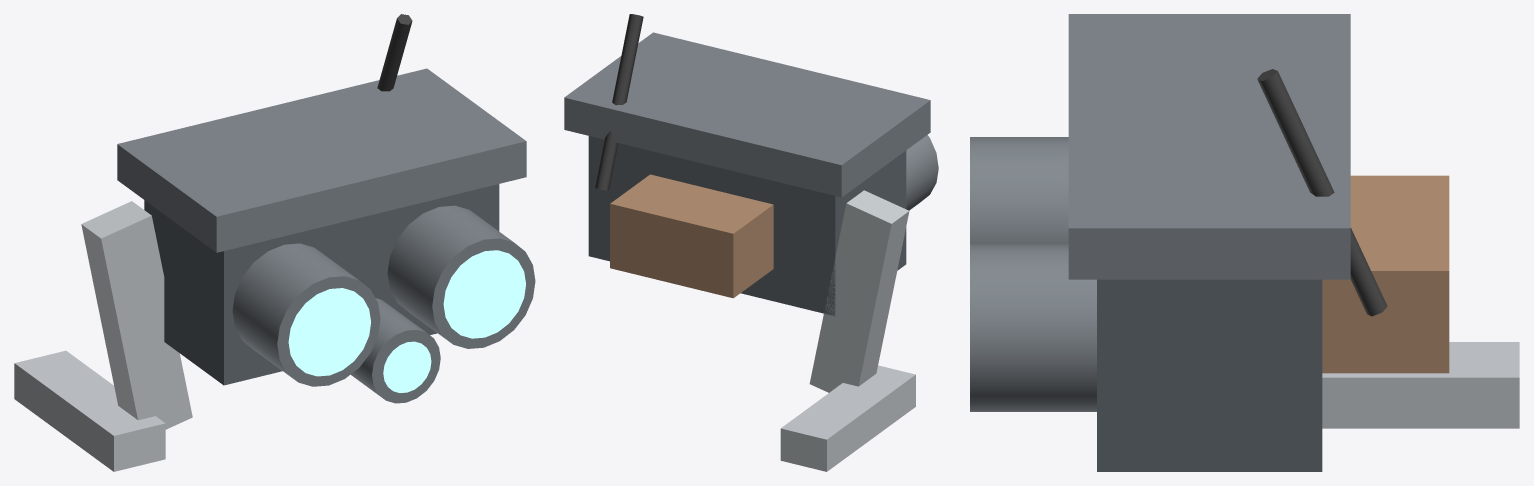
The model's file is nightvision_scan_module.glb.
3 views of the same model, side by side, from view 1: azimuth 30°, elevation 25°; view 2: azimuth 150°, elevation 25°; view 3: azimuth 270°, elevation 25° (orthographic). The views are drawn at different scales.
Parts seen in each view (by area): view 1: nightvision_scan_module; view 2: nightvision_scan_module; view 3: nightvision_scan_module.
Part boxes in pixels (left/top/right/bottom): nightvision_scan_module: left=14, top=14, right=535, bottom=471; nightvision_scan_module: left=564, top=14, right=938, bottom=471; nightvision_scan_module: left=970, top=14, right=1519, bottom=471.
Bounding box in the file's own units: 0.2066 × 0.2076 × 0.196.
